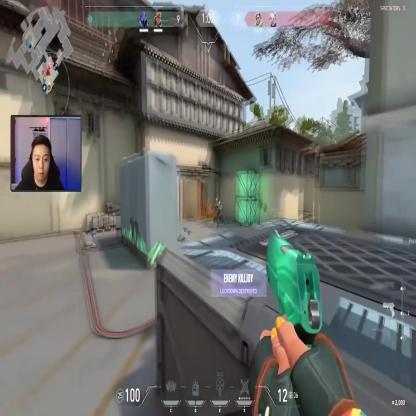enemy: (214, 198, 224, 226)
enemy_head: (215, 197, 218, 202)
